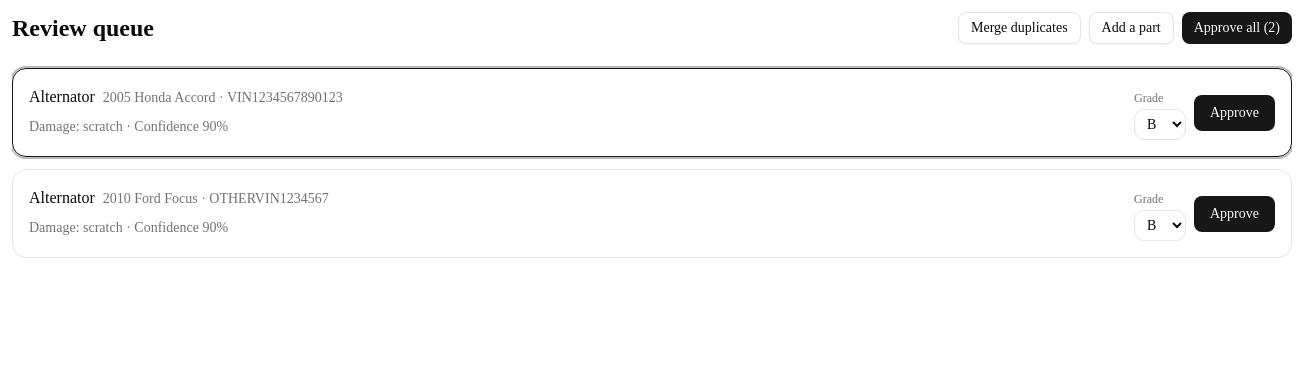
ReviewQueuePage › Merge duplicates › disables the merge action and warns when selected parts span different vehicles
Expected: the option with test id "review-item-a" is shown, [12, 68, 1292, 157]
Step 1. Click the button "Merge duplicates" → (1019,28), box [958, 12, 1080, 44]
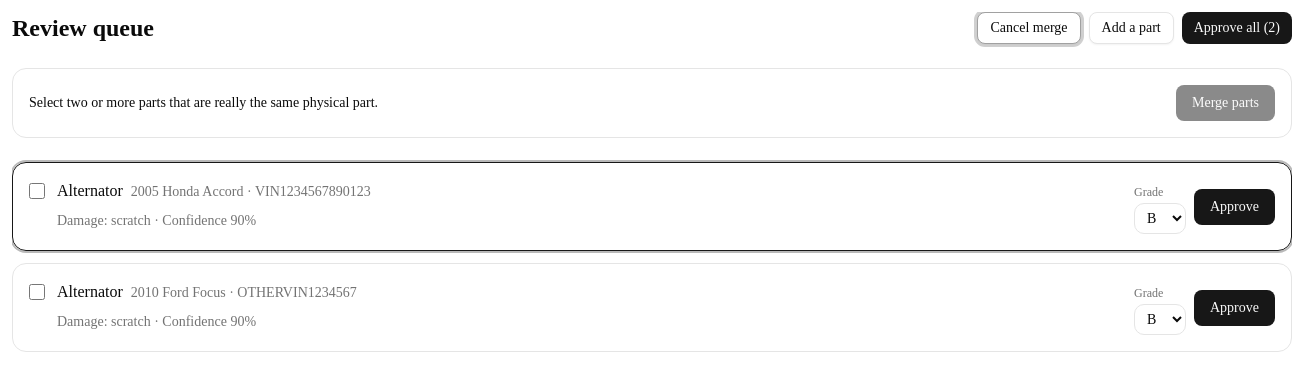
Step 2. Click the checkbox named "Select Alternator for merge" in the row of "2005 Honda Accord" → (37,191), box [29, 183, 45, 199]
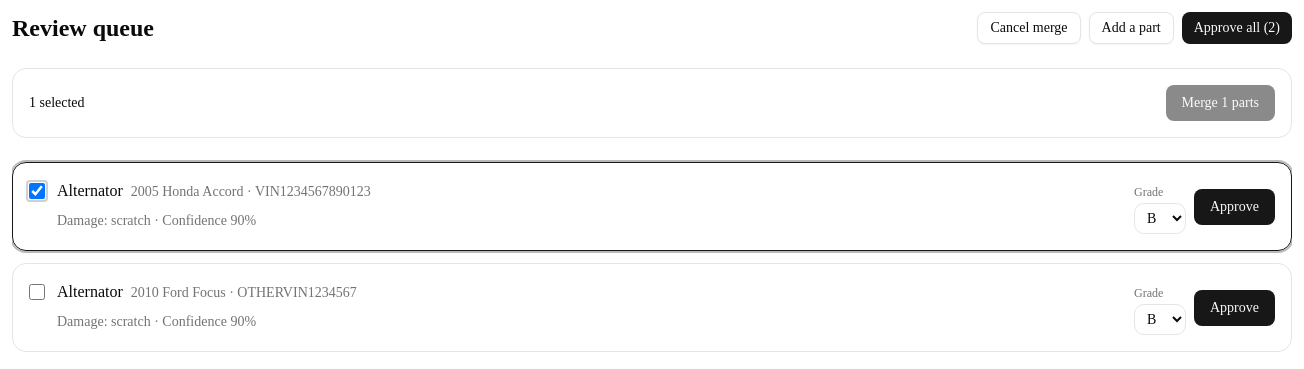
Step 3. Click the checkbox named "Select Alternator for merge" in the row of "2010 Ford Focus" → (37,292), box [29, 284, 45, 300]
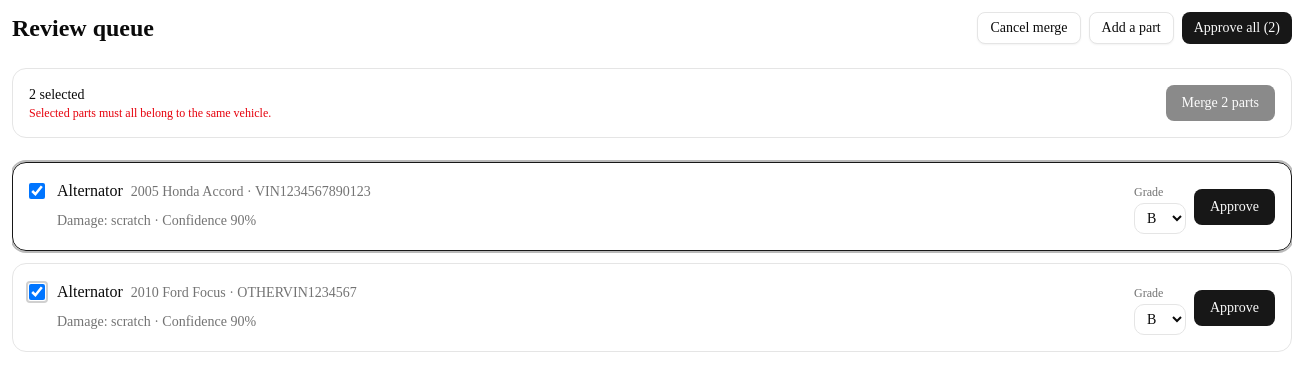
Result: the button "Merge 2 parts" is disabled at [1166, 85, 1275, 121]
Result: the text "Selected parts must all belong to the same vehicle." is shown at [29, 105, 271, 121]
